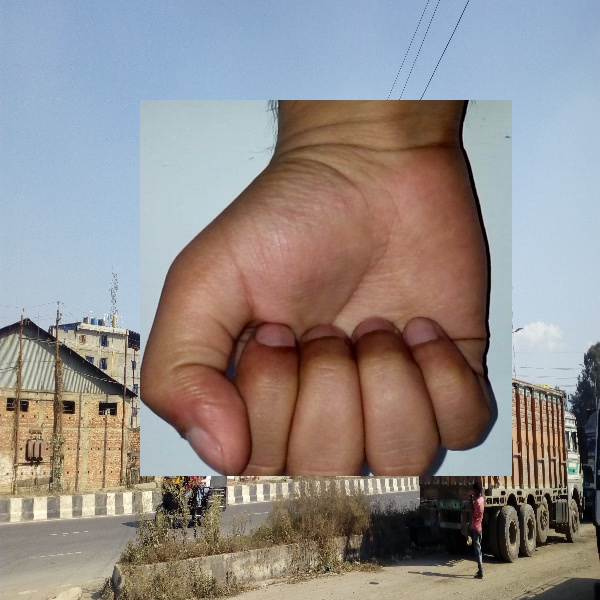A: (140, 100, 512, 476)
